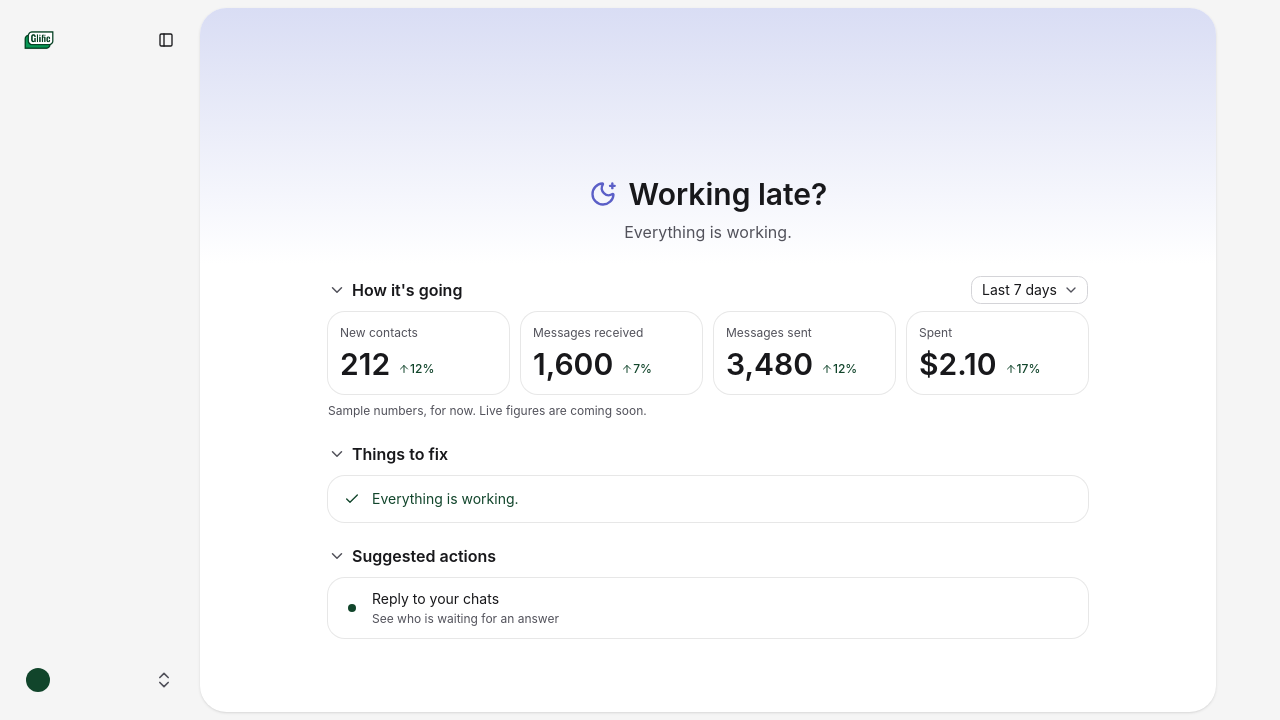
Test case: account menu › has no settings for staff
Click the 2nd button named "account and settings" at (100, 680), box [16, 656, 184, 704]
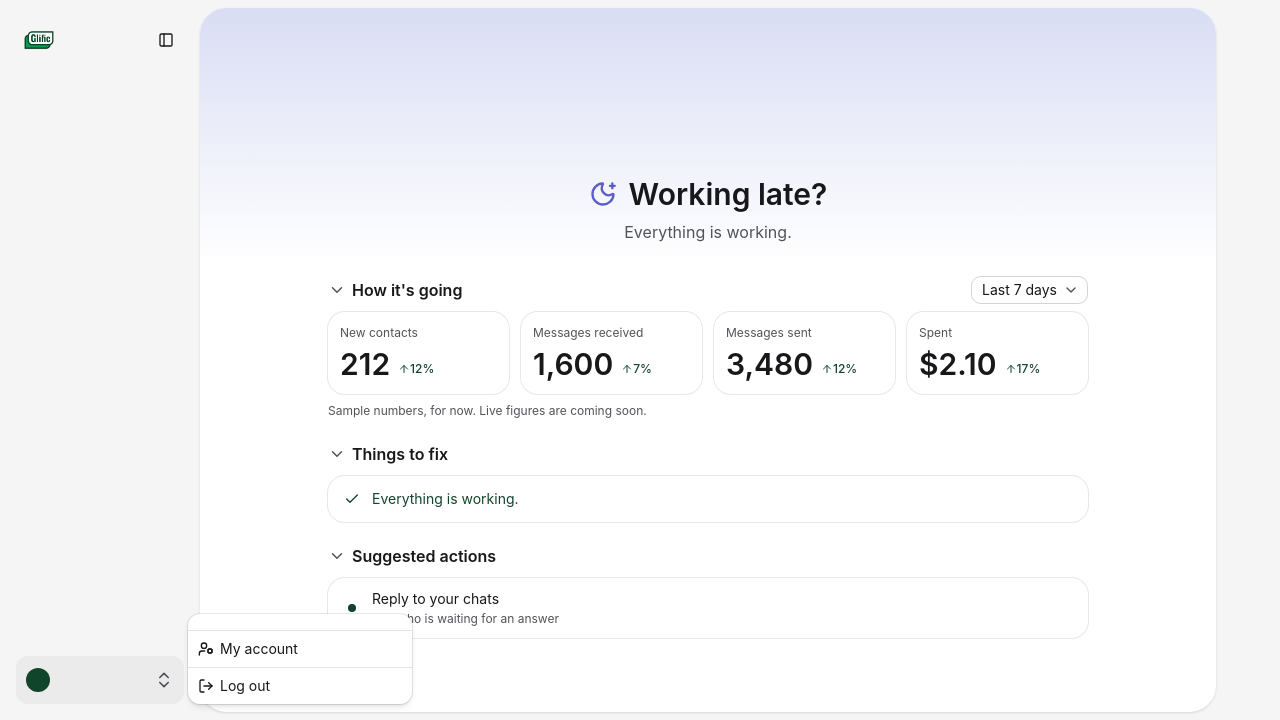
Result: the menu item "My account" is shown at [198, 640, 298, 657]
